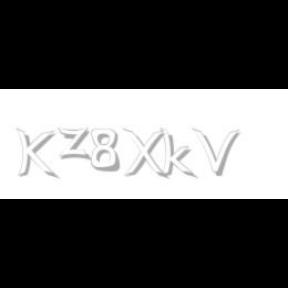8: (90, 128, 119, 172)
K: (15, 128, 55, 180)
V: (192, 128, 240, 176)
X: (122, 128, 166, 180)
k: (159, 128, 197, 180)
z: (57, 128, 93, 160)
